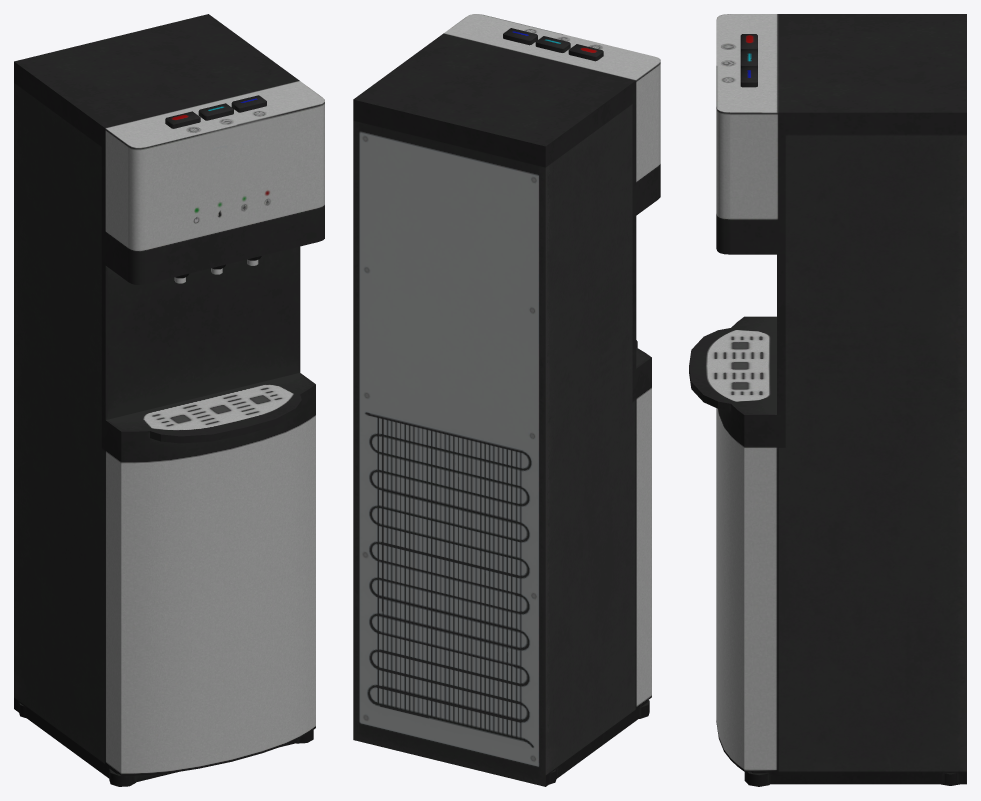
File: FBX_WaterCoolerModern.fbx
The picture shows the model from 3 angles, left to right: view 1: azimuth 30°, elevation 25°; view 2: azimuth 150°, elevation 25°; view 3: azimuth 270°, elevation 25°; orthographic projection. The views are drawn at different scales.
Parts seen in each view (by area): view 1: SM_WaterCoolerModern; view 2: SM_WaterCoolerModern; view 3: SM_WaterCoolerModern.
Boxes of the visible parts, left/top/right/bottom form: SM_WaterCoolerModern: left=14, top=14, right=324, bottom=786; SM_WaterCoolerModern: left=353, top=14, right=660, bottom=786; SM_WaterCoolerModern: left=689, top=14, right=966, bottom=786.
Size of the model in its own units: 0.3525 by 1.09 by 0.4054.
